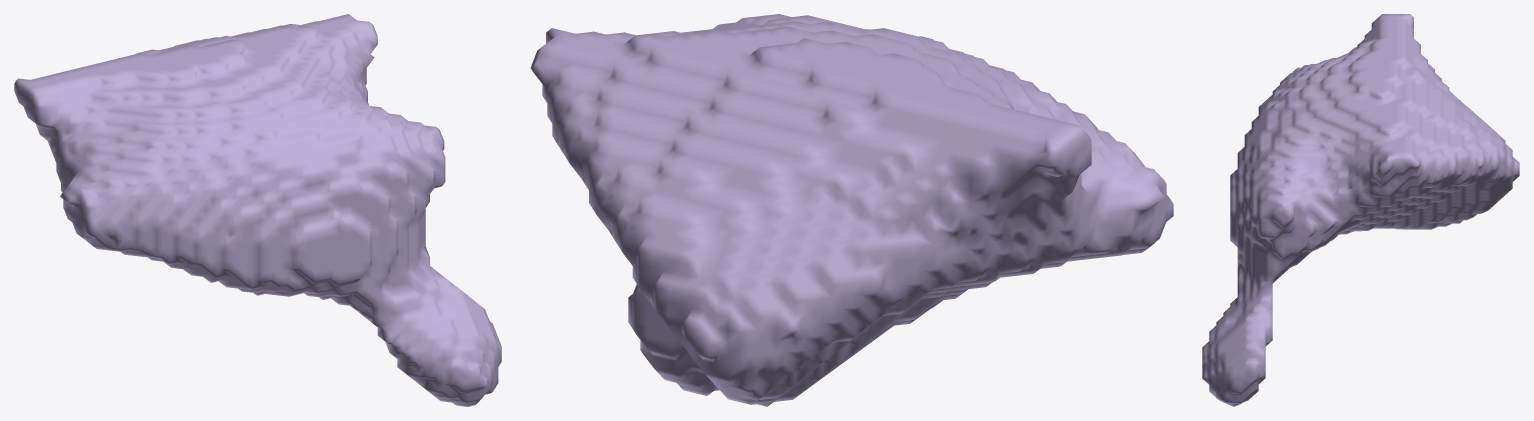
The picture shows the model from 3 angles, left to right: view 1: azimuth 30°, elevation 25°; view 2: azimuth 150°, elevation 25°; view 3: azimuth 270°, elevation 25°; orthographic projection. The views are drawn at different scales.
Visible parts, largest first — view 1: structure; view 2: structure; view 3: structure.
Part boxes in pixels (x1=…): structure: x1=14, y1=14, x2=501, y2=406; structure: x1=530, y1=14, x2=1173, y2=406; structure: x1=1202, y1=14, x2=1519, y2=406.
Bounding box in the file's own units: 80 × 64 × 72.
